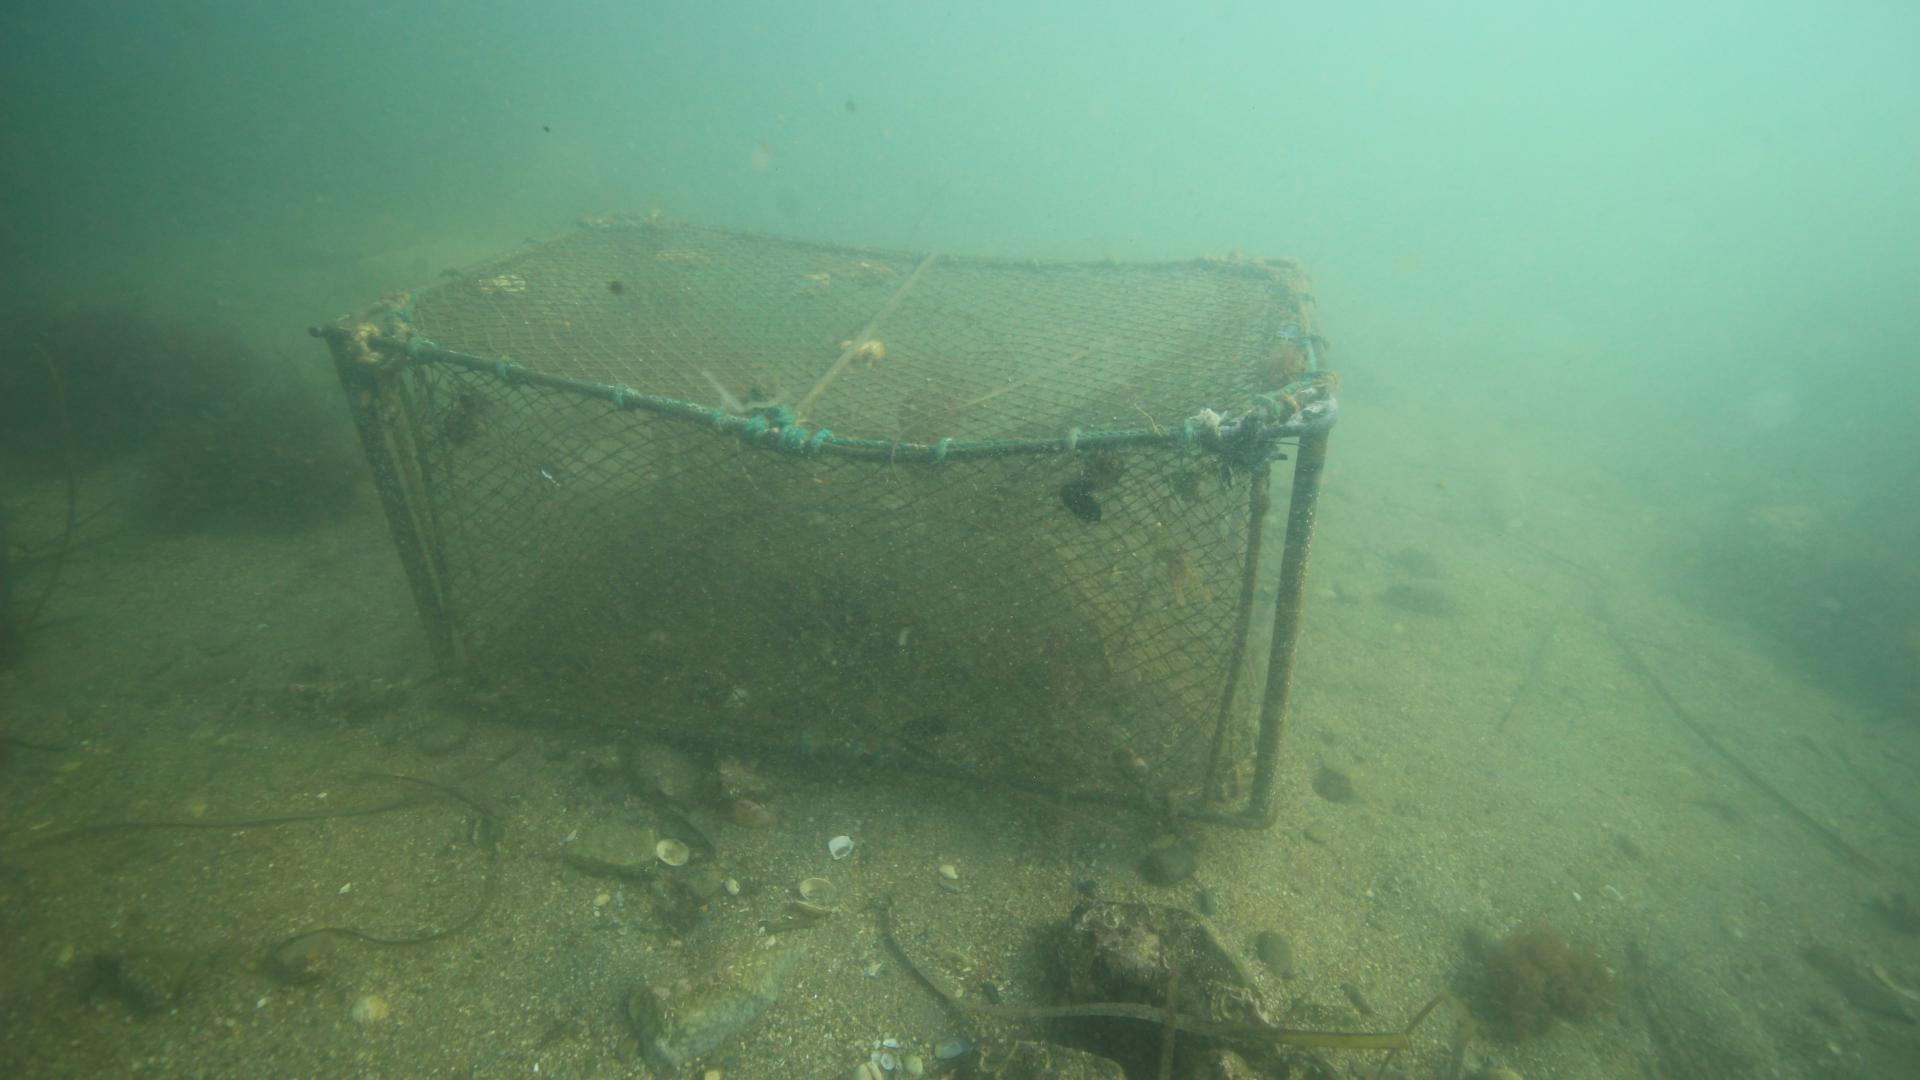rectangular fish trap: (314, 211, 1341, 833)
